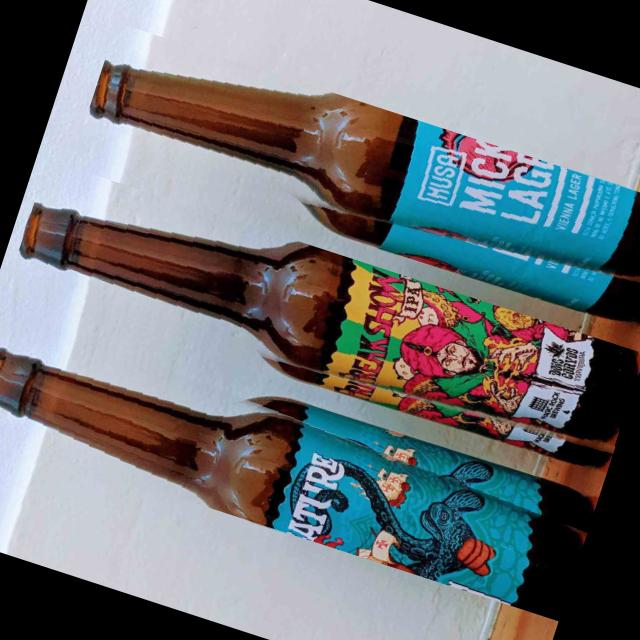Glass: (7, 159, 640, 480), (0, 302, 599, 621), (76, 22, 640, 335)
